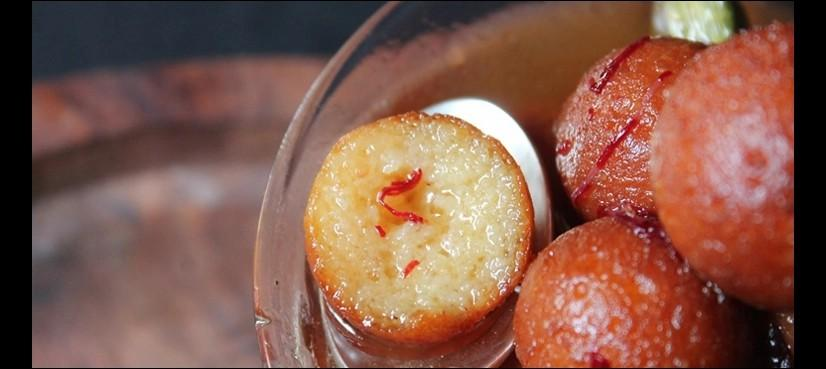GulabJamun: (304, 111, 533, 346), (653, 19, 795, 313), (514, 215, 762, 367), (552, 35, 723, 223)
